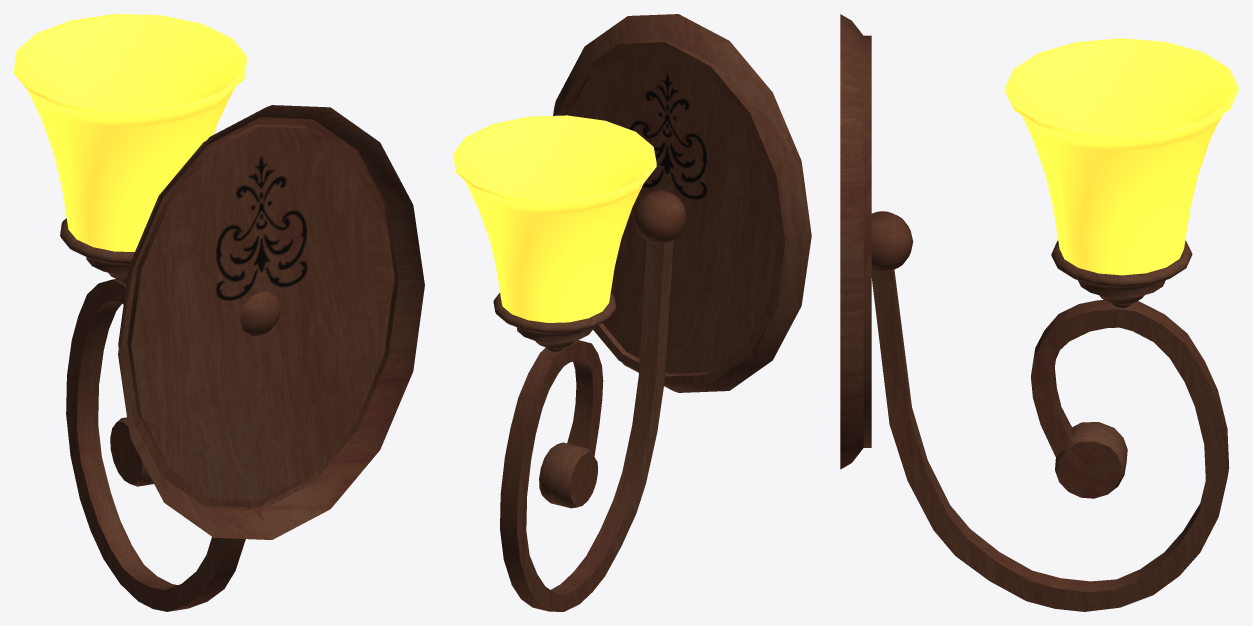
The model's file is Wall Lamp.fbx.
The picture shows the model from 3 angles, left to right: view 1: azimuth 30°, elevation 25°; view 2: azimuth 150°, elevation 25°; view 3: azimuth 270°, elevation 25°; orthographic projection. The views are drawn at different scales.
Parts seen in each view (by area): view 1: Wall_Lamp; view 2: Wall_Lamp; view 3: Wall_Lamp.
Part boxes in pixels (x1,y1,x2,y2): Wall_Lamp: (14, 14, 424, 611); Wall_Lamp: (453, 14, 811, 611); Wall_Lamp: (840, 14, 1238, 611).
Size of the model in its own units: 50.11 by 91.72 by 56.99.
